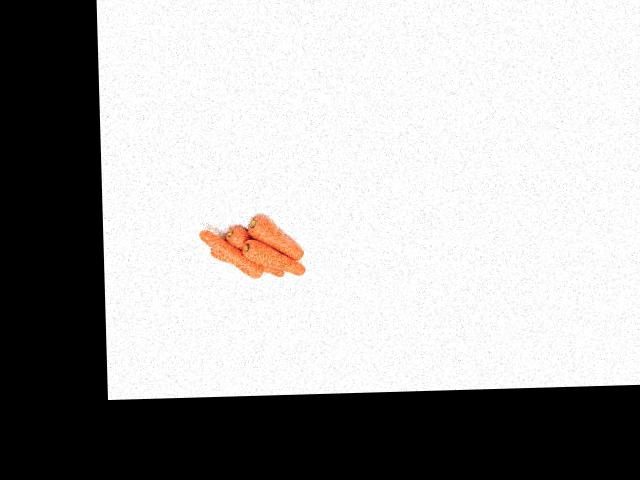carrot: (239, 206, 306, 262)
